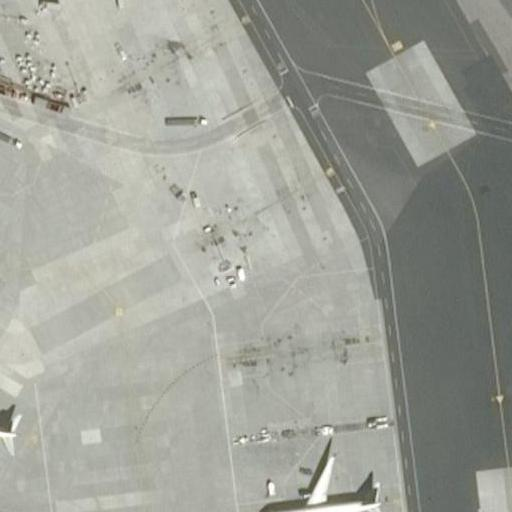Aircraft: (259, 444, 386, 512), (0, 363, 26, 480)
